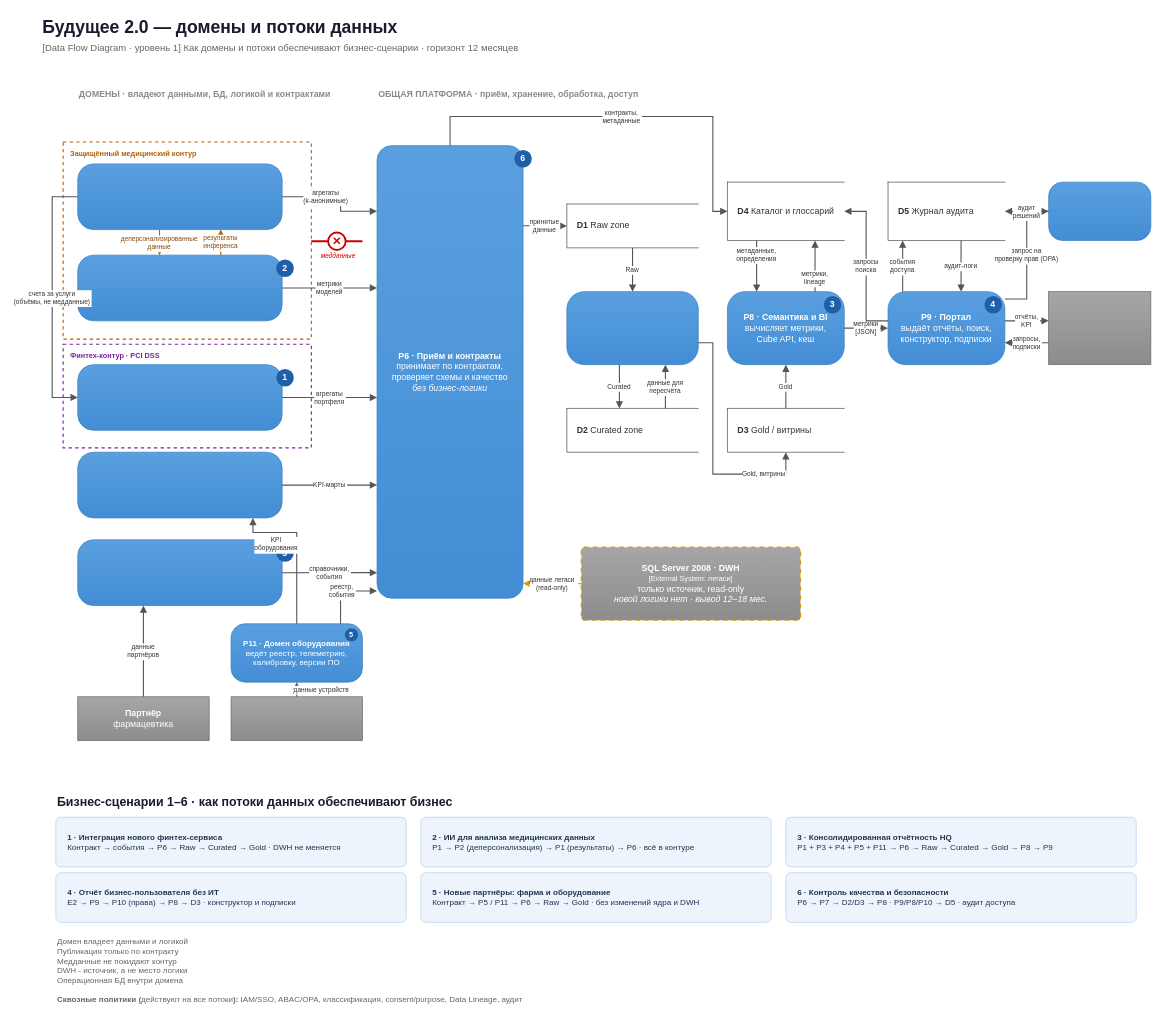
Image size: 1164x1019. Some labels were removed from this diagram. The shapes that lost their labels are listed below. From the top down, each one's centre as x and y in pixels, then its label:
At (x=179, y=196): "P1 · Клинический домен ведёт ЭМК, записи, услуги медданные не покидают контур".
At (x=1099, y=211): "P10 · Доступ и политики проверяет права, политики для P8/P9 Keycloak, OPA".
At (x=179, y=287): "P2 · ИИ-домен обучает и применяет модели публикует метрики моделей".
At (x=632, y=328): "P7 · Обработка данных Airflow + dbt Raw → Curated → Gold".
At (x=1099, y=328): "Бизнес- пользователь отчёты, KPI".
At (x=179, y=397): "P3 · Финтех-домен обрабатывает платежи, кредиты PCI DSS, публикует агрегаты".
At (x=179, y=485): "P4 · Корпоративный домен ведёт финансы, HR, закупки публикует KPI-марты".
At (x=179, y=572): "P5 · Партнёрский домен управляет контрактами фармы справочники, события".
At (x=296, y=718): "Производитель оборудования".
